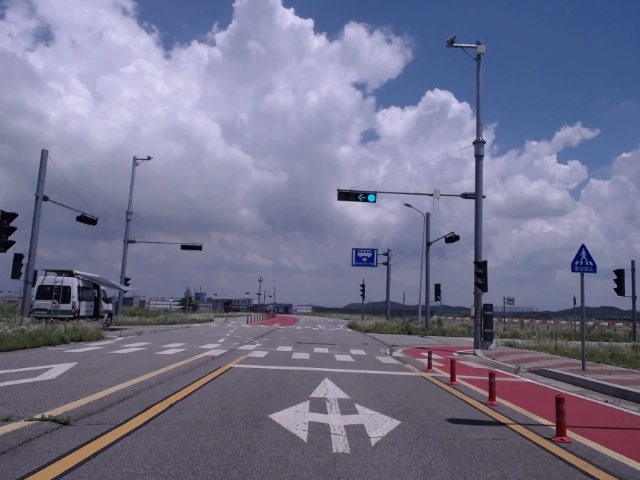all_green_4: (336, 187, 378, 204)
